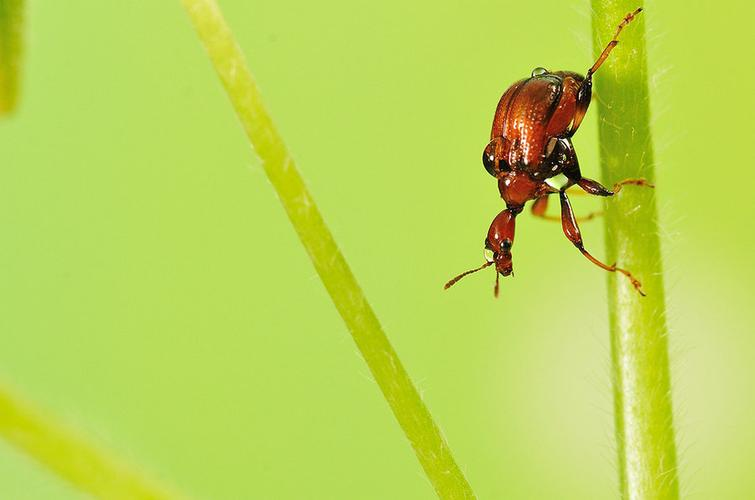Curculionidae: (443, 7, 655, 299)
